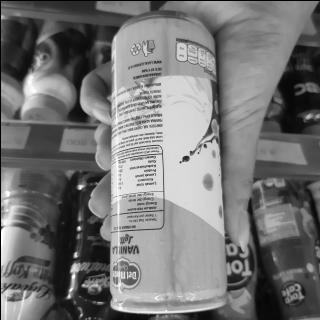alumunium_can: (82, 8, 236, 314)
